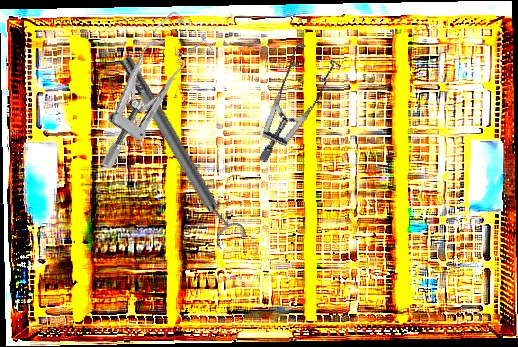Fixation Ring: (110, 48, 249, 252)
Speculum: (59, 6, 227, 173), (216, 27, 364, 165)
